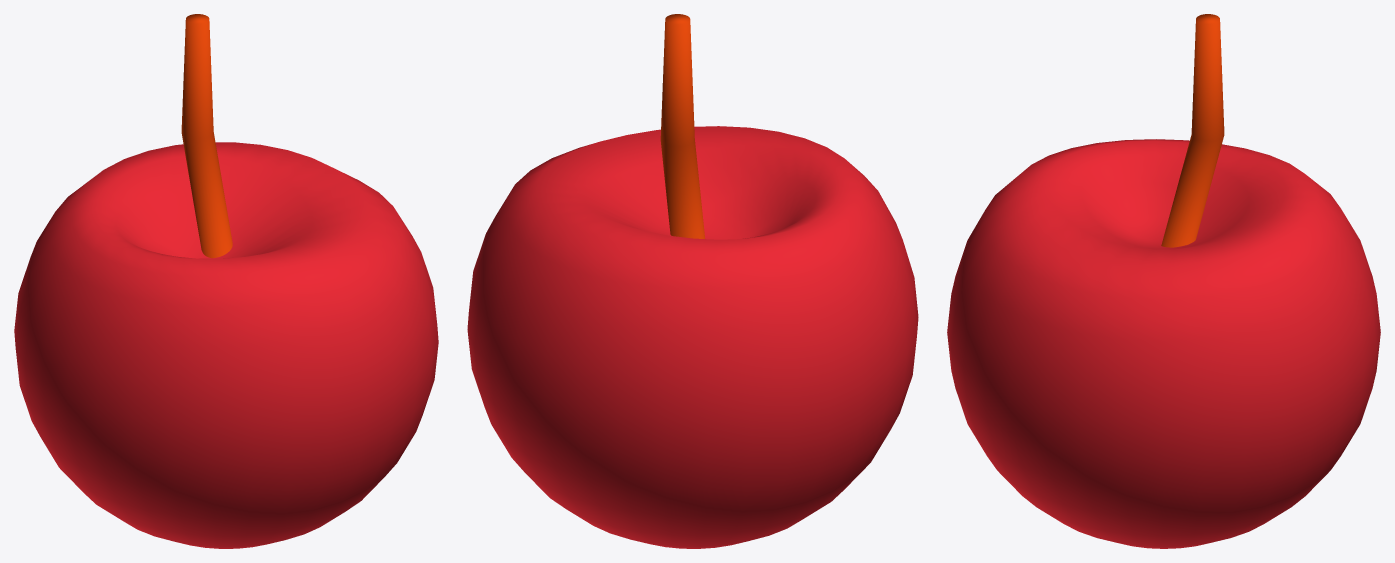
Rendered from manzana.fbx.
3 renders of one model, left to right at view 1: azimuth 30°, elevation 25°; view 2: azimuth 150°, elevation 25°; view 3: azimuth 270°, elevation 25°, orthographic. The views are drawn at different scales.
Visible parts, largest first — view 1: Cylinder; view 2: Cylinder; view 3: Cylinder.
Boxes of the visible parts, x1=… form: Cylinder: x1=14, y1=14, x2=438, y2=548; Cylinder: x1=467, y1=14, x2=918, y2=548; Cylinder: x1=947, y1=14, x2=1380, y2=548.
Size of the model in its own units: 2 by 2 by 2.58.
